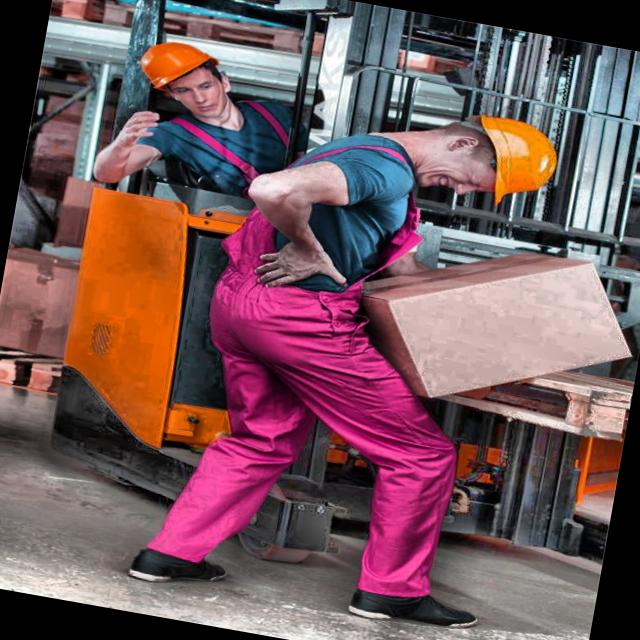helmet: (402, 98, 568, 213), (128, 32, 244, 122)
